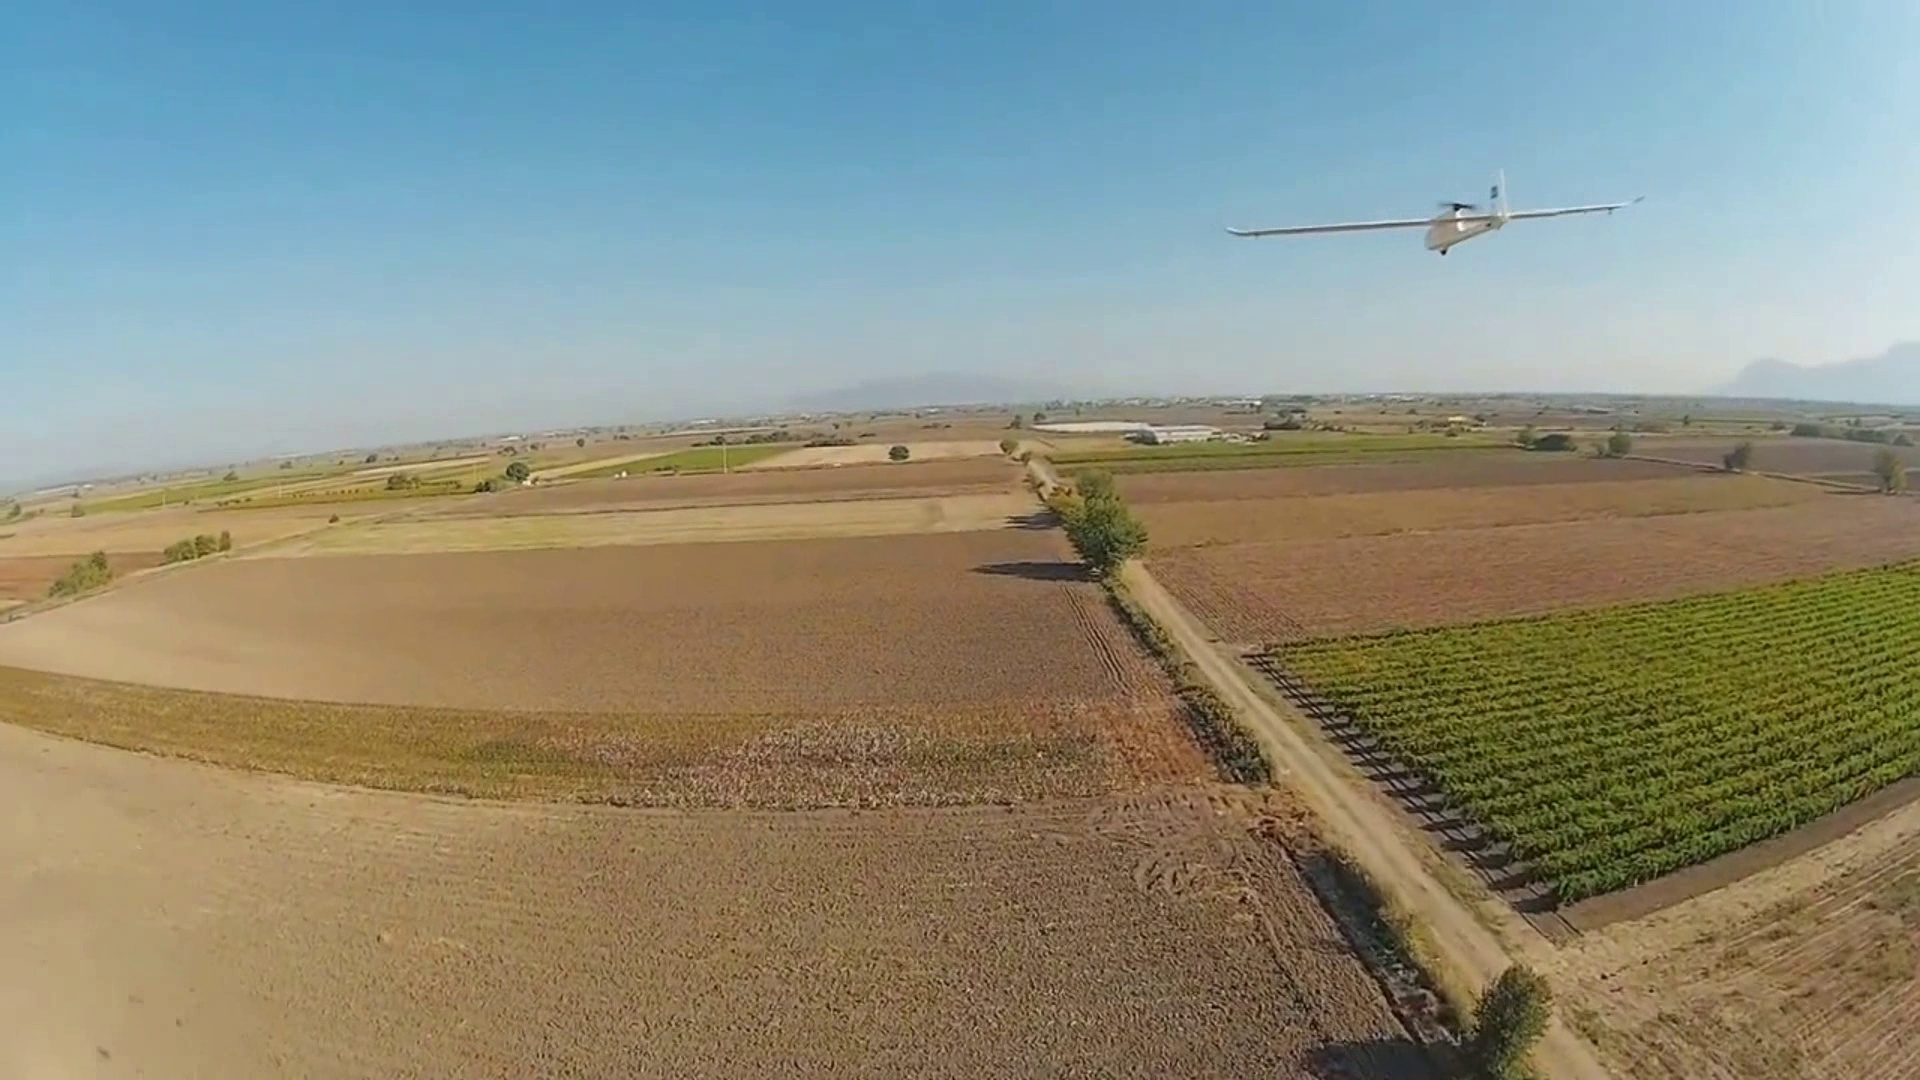airplane: (1222, 175, 1642, 255)
